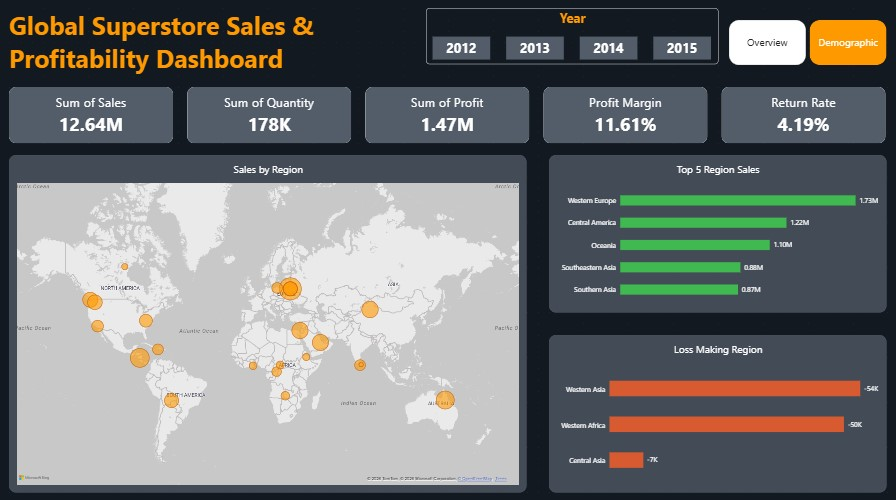

The page's visual inventory and layout, read from the dashboard file:
{"tool":"powerbi","page":{"name":"Demographic","canvas":[1920,1080],"ordinal":1},"visuals":[{"type":"textbox","box":[24,24,864,144],"z":0},{"type":"advancedSlicerVisual","fields":{"Values":["Orders.Order Date.Variation.Date Hierarchy.Year"]},"box":[912,24,624,120],"z":1000},{"type":"cardVisual","fields":{"Data":["Sum(Orders.Sales)","Sum(Orders.Quantity)","Sum(Orders.Profit)","Orders.Profit Margin","Orders.Return Rate"]},"box":[24,192,1872,120],"z":2000},{"type":"map","title":"Sales by Region","fields":{"Category":["Orders.Region"],"Size":["Sum(Orders.Sales)"]},"box":[24,336,1104,720],"z":3000},{"type":"clusteredBarChart","title":"Top 5 Region Sales","fields":{"Category":["Orders.Region"],"Y":["Sum(Orders.Sales)"]},"box":[1176,336,720,336],"z":4000},{"type":"clusteredBarChart","title":"Loss Making Region","fields":{"Category":["Orders.Region"],"Y":["Orders.Total Profit"]},"box":[1176,720,720,336],"z":5000},{"type":"pageNavigator","box":[1560,48,336,96],"z":5001}]}

Visuals, with their boxes in screenshot pixels (x1, y1, x2, y2), scaled from the page's 1920x1080 canvas onto the 896x500 screenshot:
textbox: (x1=11, y1=11, x2=414, y2=78)
advancedSlicerVisual - Orders.Order Date.Variation.Date Hierarchy.Year: (x1=426, y1=11, x2=717, y2=67)
cardVisual - Sum(Orders.Sales) x Sum(Orders.Quantity): (x1=11, y1=89, x2=885, y2=144)
"Sales by Region" map: (x1=11, y1=156, x2=526, y2=489)
"Top 5 Region Sales" clusteredBarChart: (x1=549, y1=156, x2=885, y2=311)
"Loss Making Region" clusteredBarChart: (x1=549, y1=333, x2=885, y2=489)
pageNavigator: (x1=728, y1=22, x2=885, y2=67)
